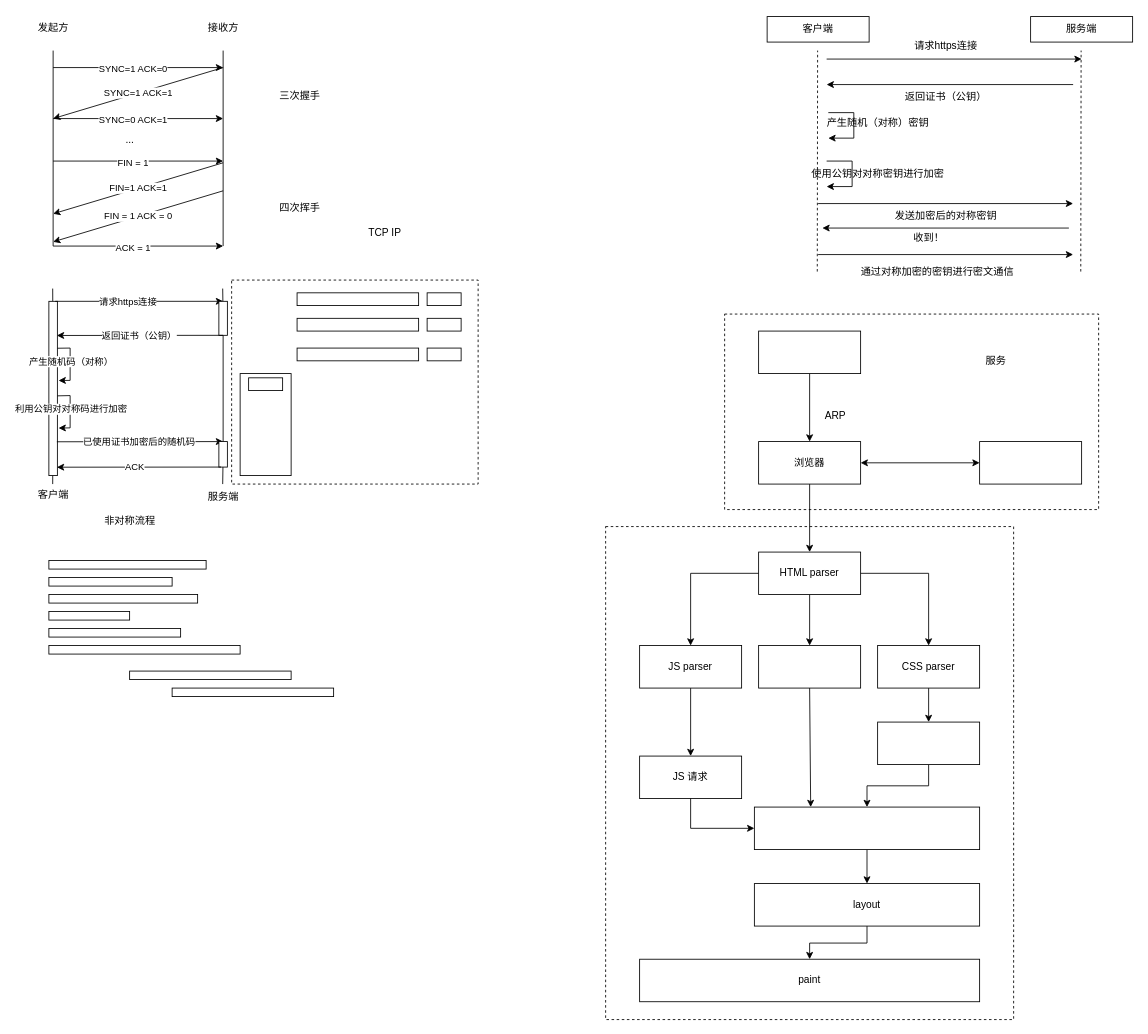
This 1148x1034 diagram has some shape labels left out. Each missing label, with the box of its shape:
CSSOM: (877, 721, 980, 765)
DOM: (758, 645, 861, 688)
render tree: (754, 806, 980, 850)
URL: (758, 330, 861, 374)
资源: (979, 441, 1082, 484)
